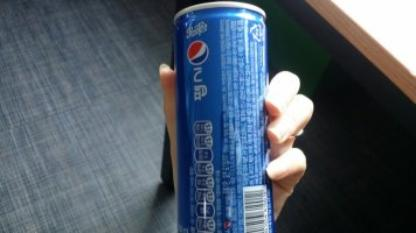Can: (172, 2, 276, 233)
